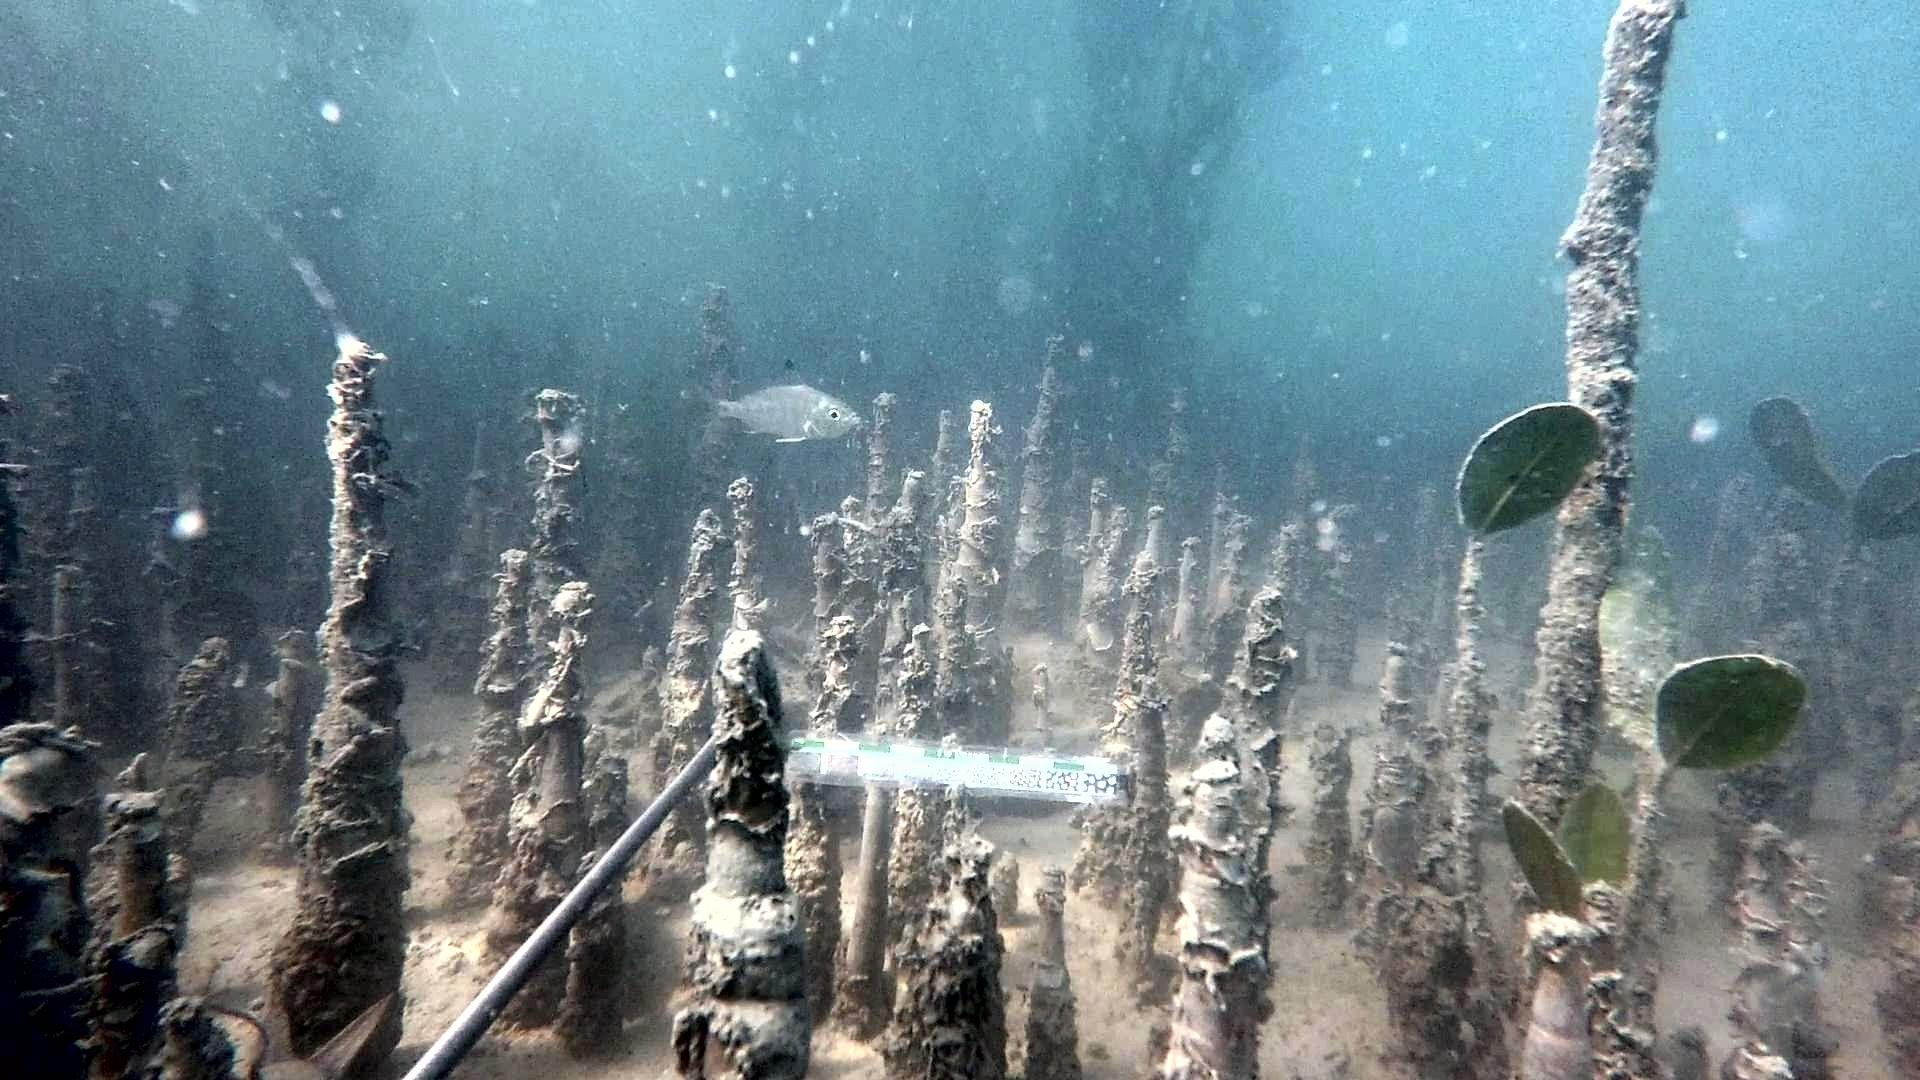gerres: (692, 360, 864, 445)
